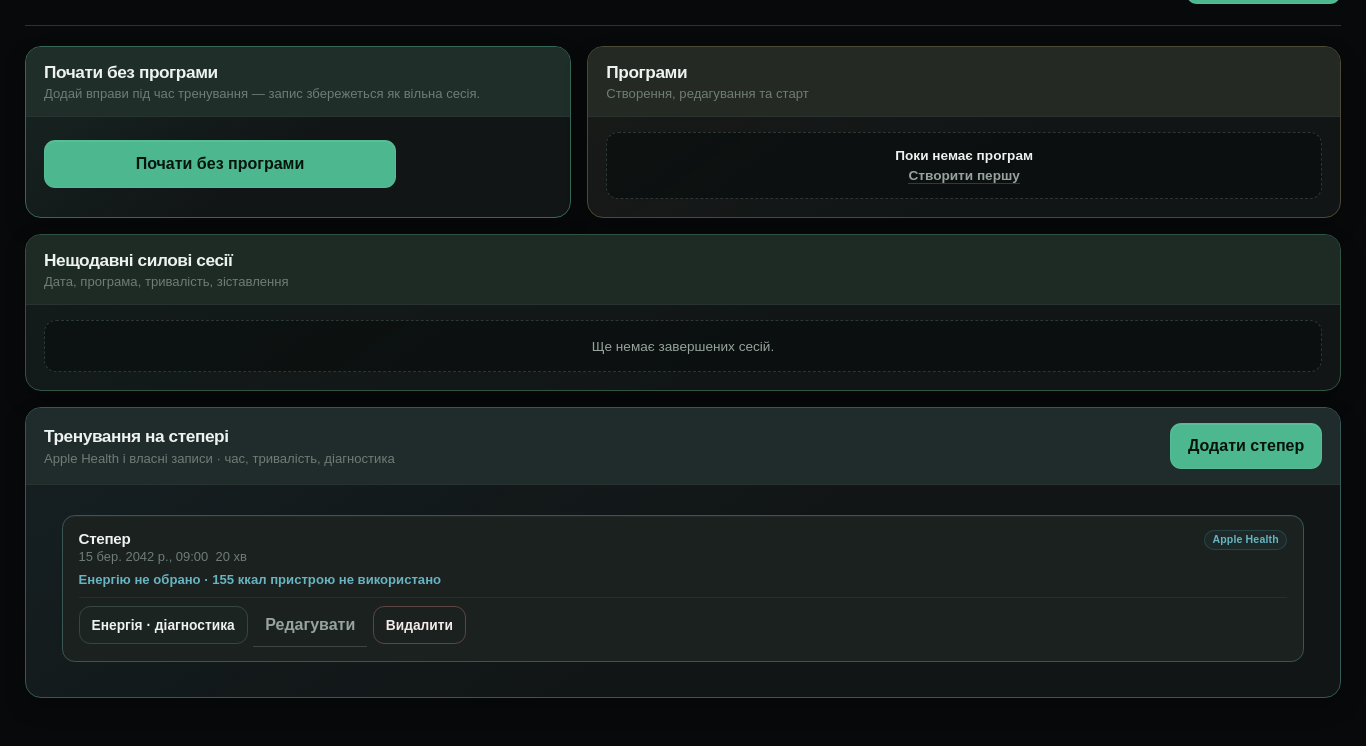
stepper section in Training › releases Stepper controls after a delete request times out
(page scrolled)
Expected: the text "Apple Health" is shown, [1204,530,1287,550]
Click the button "Видалити".
click(419, 625)  # box [373,606,466,644]
Wait 15000 ms
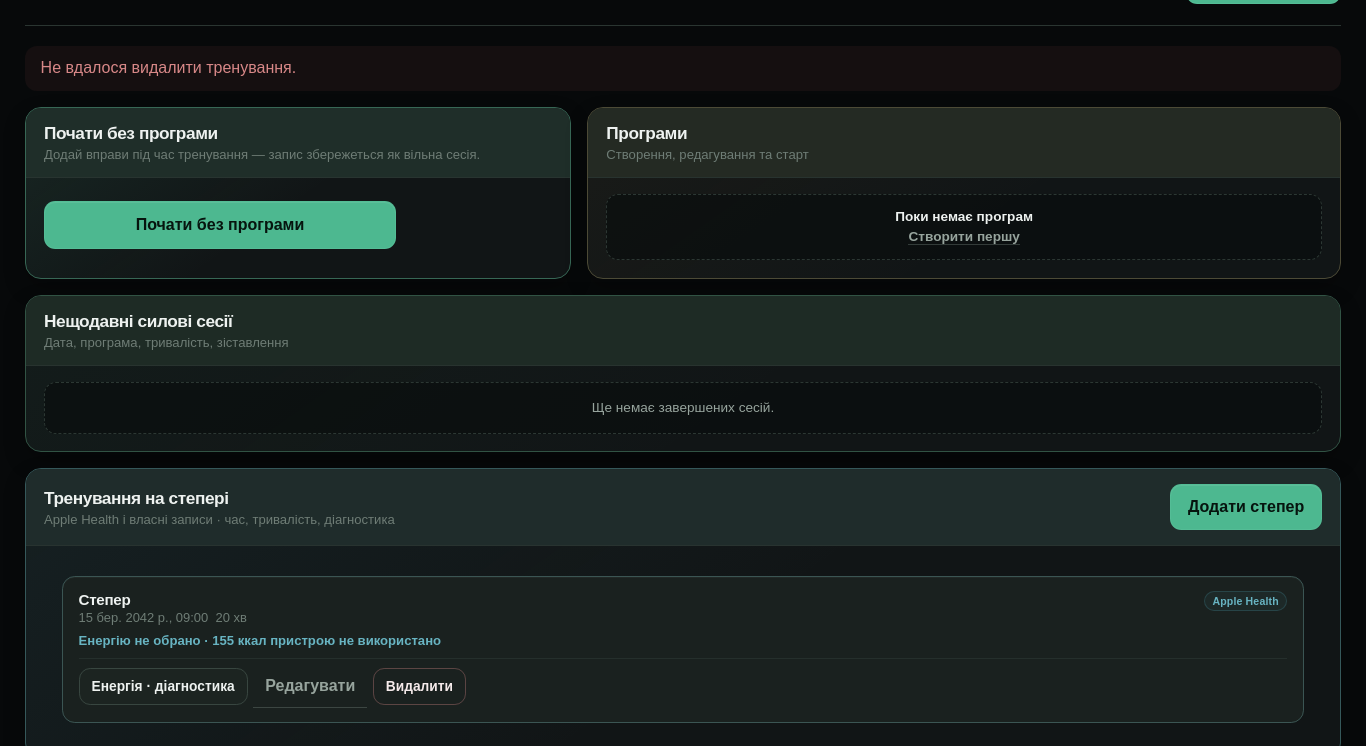
Expected: the button "Додати степер" is enabled, [1170,484,1322,530]
Now the text "Не вдалося видалити тренування." is shown, box [25,46,1341,91]
